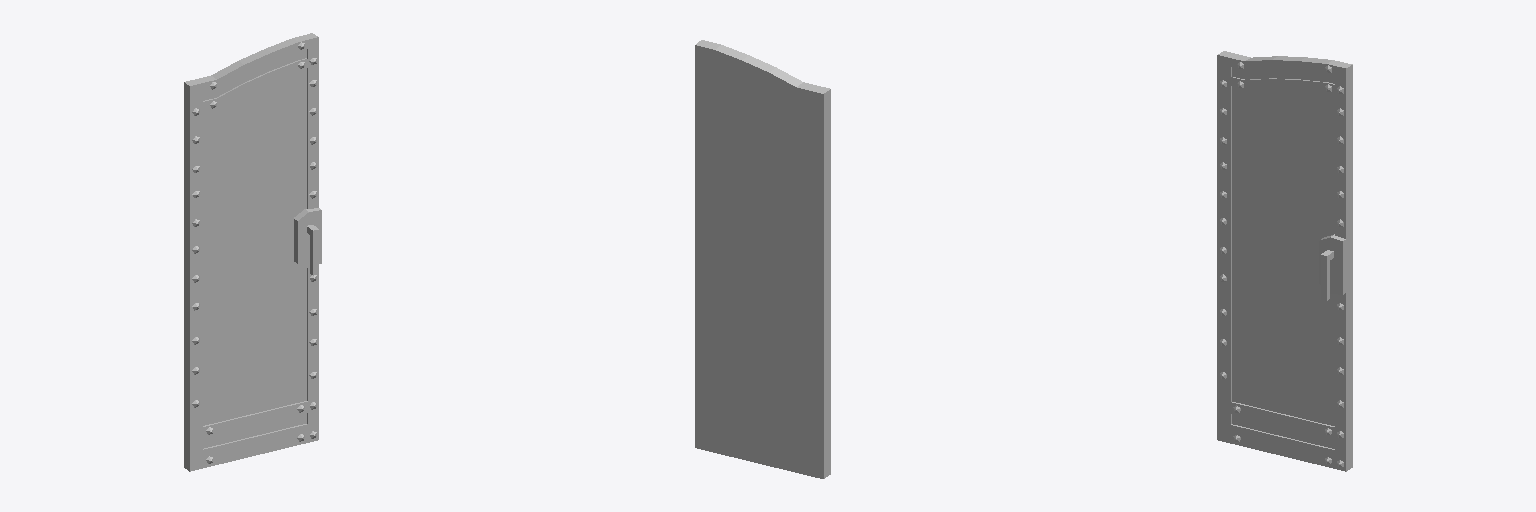
Rendered from door_left.obj.
3 views of the same model, side by side, from view 1: azimuth 30°, elevation 25°; view 2: azimuth 150°, elevation 25°; view 3: azimuth 330°, elevation 25° (orthographic).
Parts seen in each view (by area): view 1: Cube.003; view 2: Cube.003; view 3: Cube.003.
Boxes of the visible parts, x1=… form: Cube.003: x1=184, y1=33, x2=321, y2=471; Cube.003: x1=695, y1=40, x2=830, y2=478; Cube.003: x1=1217, y1=51, x2=1352, y2=471.
Size of the model in its own units: 0.3241 by 0.9687 by 0.0711.